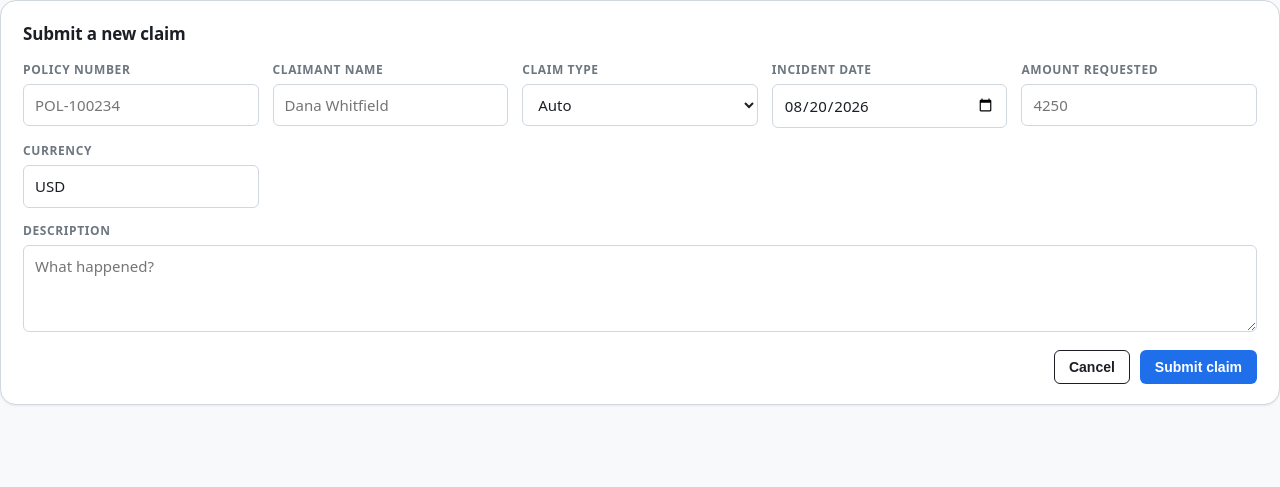
Test case: NewClaimForm › surfaces validation errors instead of submitting
Click the button "Submit claim": (1198, 367) [1140,350,1257,384]
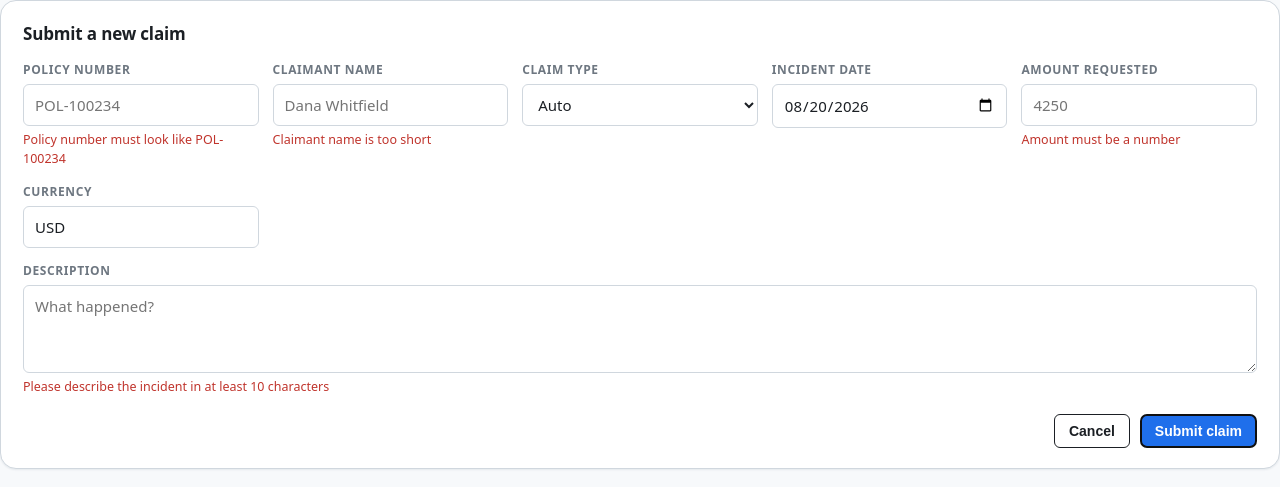
Result: the text "Policy number must look like POL-100234" is shown at [23,131,259,168]
Result: the text "Claimant name is too short" is shown at [273,131,431,148]
